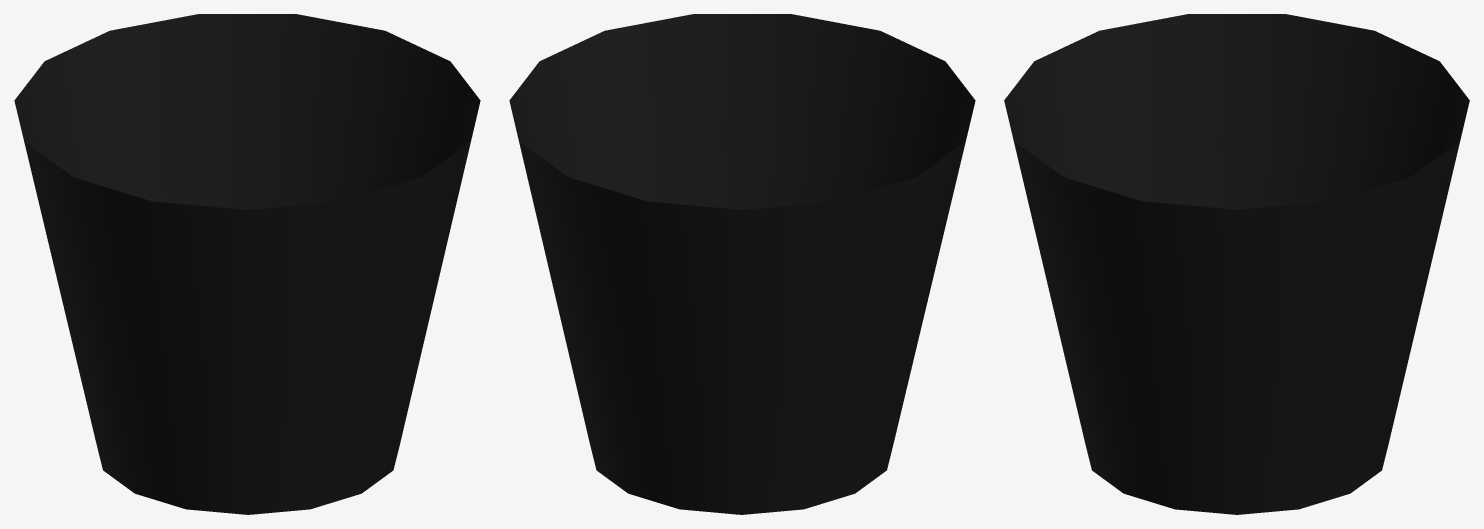
Rendered from Trash Can Textured.fbx.
3 renders of one model, left to right at view 1: azimuth 30°, elevation 25°; view 2: azimuth 150°, elevation 25°; view 3: azimuth 270°, elevation 25°, orthographic.
Visible parts, largest first — view 1: pCylinder1; view 2: pCylinder1; view 3: pCylinder1.
Part boxes in pixels (box(x1,y1,x2,y2)): pCylinder1: box(14, 14, 480, 514); pCylinder1: box(509, 14, 975, 514); pCylinder1: box(1004, 14, 1469, 514).
Size of the model in its own units: 2.42 by 1.96 by 2.43.
1 material, 1 textured.
